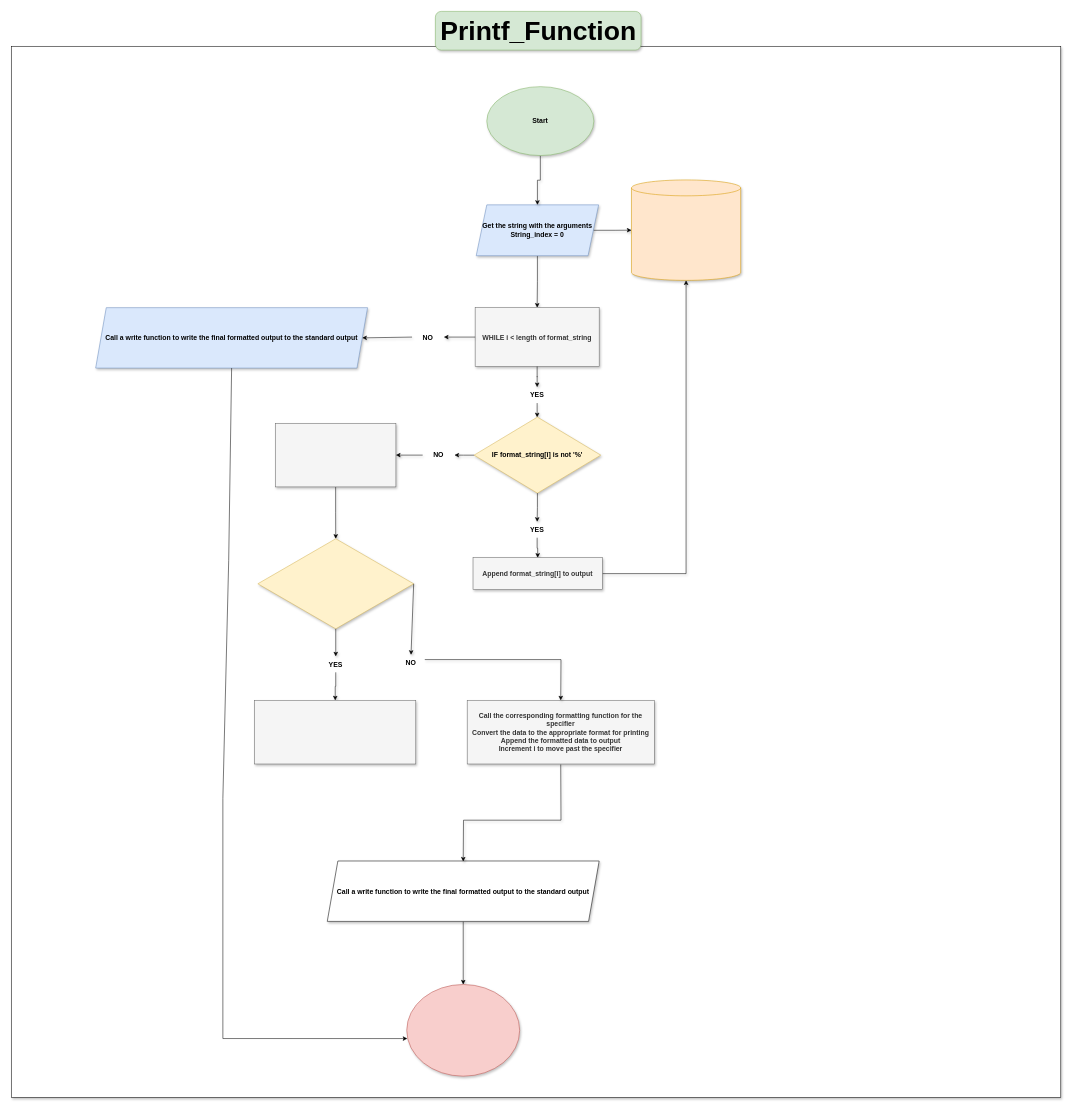
Some shapes in this 1073 by 1110 pixel diagram are drawn without their labels. Each missing label, with the centre of its shape:
END: the point at 463,1031
IF argument data type does not match specifier:: the point at 336,584
Increment i to move past '%': the point at 336,456
Raise a warning about a data type mismatch: the point at 335,733
String_output_buffer(Memery_block): the point at 686,230
